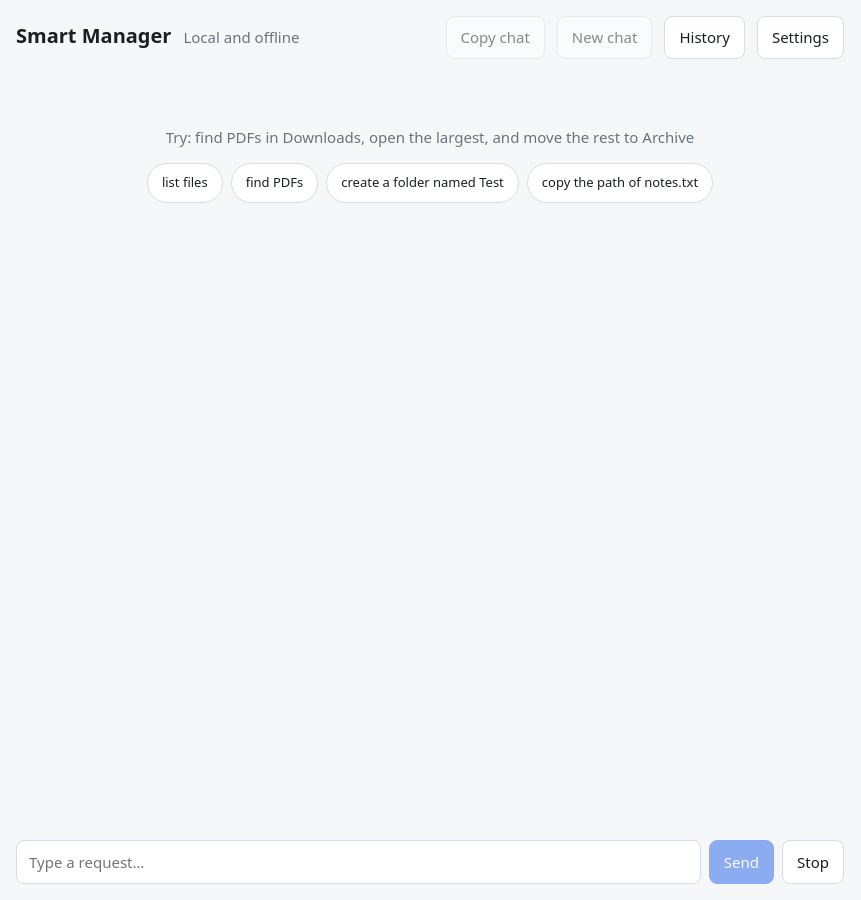
Test case: App › does not run anything when the request is rejected
Type "delete a.pdf" into the field with placeholder "Type a request…" at coordinates (358, 862), box [16,840,701,884]
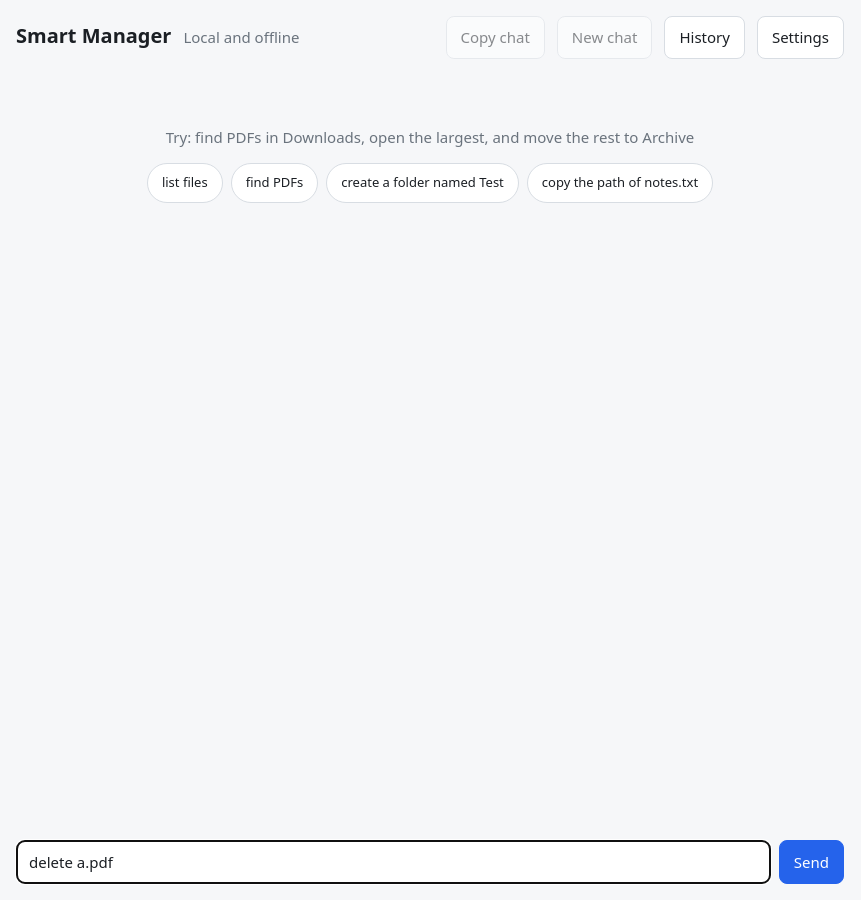
Click the button "Send" at coordinates (811, 862), box [779,840,844,884]
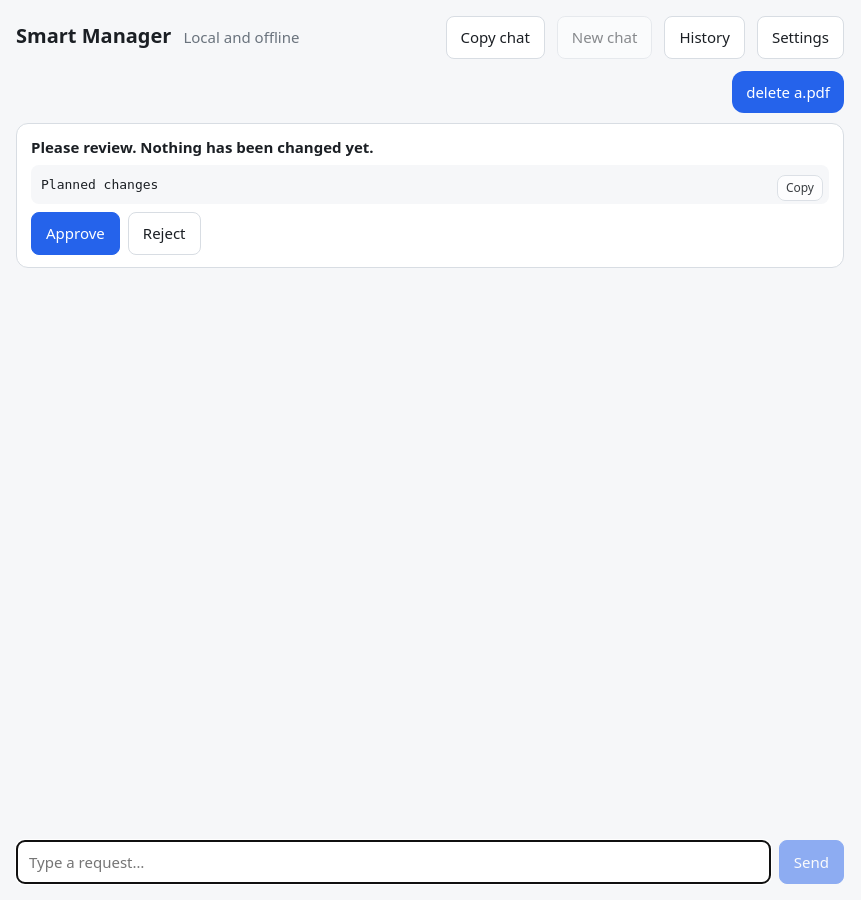
Click the button "Reject" at coordinates (164, 233), box [128,212,201,254]
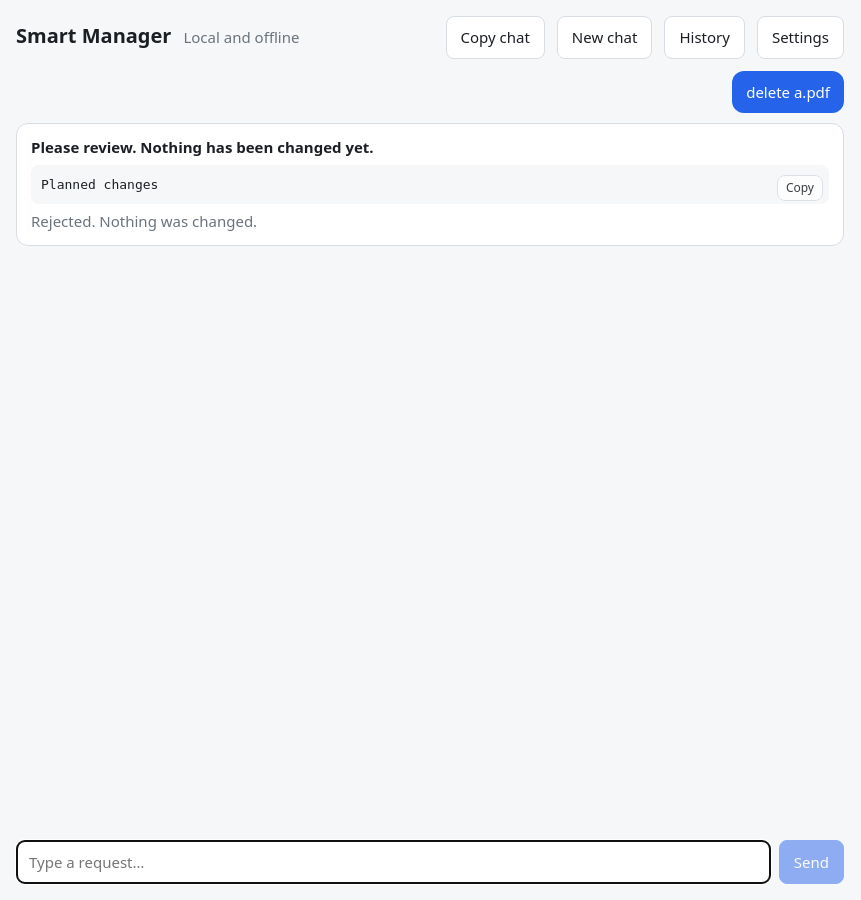
Now the text "Rejected. Nothing was changed." is shown, box [31,211,257,231]
